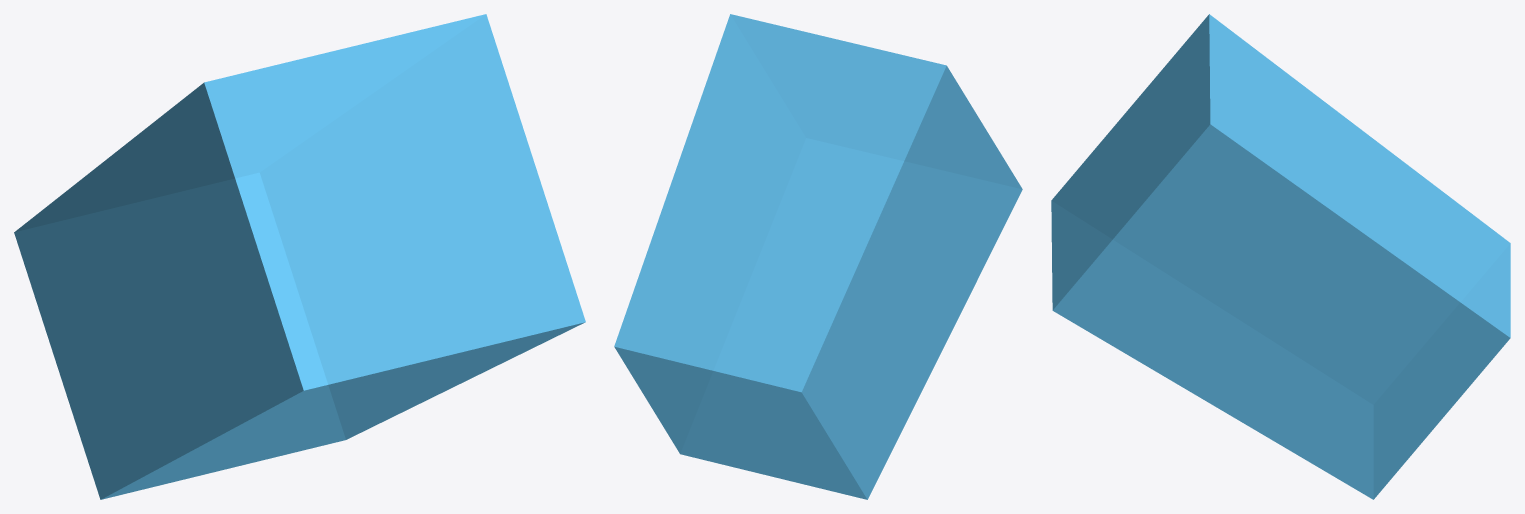
File: Event_421115418_HBrechit_20.fbx
3 views of the same model, side by side, from view 1: azimuth 30°, elevation 25°; view 2: azimuth 150°, elevation 25°; view 3: azimuth 270°, elevation 25° (orthographic). The views are drawn at different scales.
Visible parts, largest first — view 1: Model; view 2: Model; view 3: Model.
Boxes of the visible parts, x1,y1,x2,y2 form: Model: (14, 14, 585, 499); Model: (614, 14, 1022, 499); Model: (1051, 14, 1510, 499).
Bounding box in the file's own units: 0.462 × 0.7699 × 0.8195.
